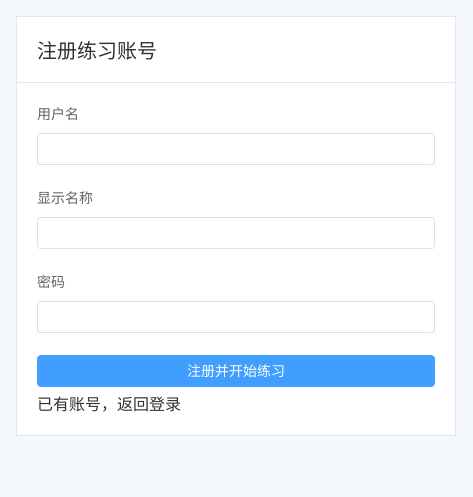
RegisterView › shows business errors next to the form
Type "alice" into the field below "用户名" at (236, 149), box 48,134 -> 424,164
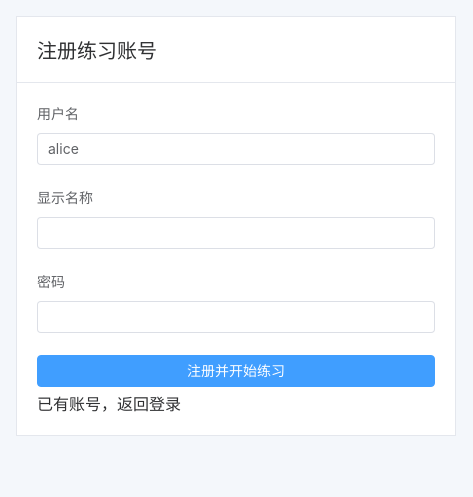
Type "password123" into the password field labelled "密码" at (236, 317), box 48,302 -> 424,332
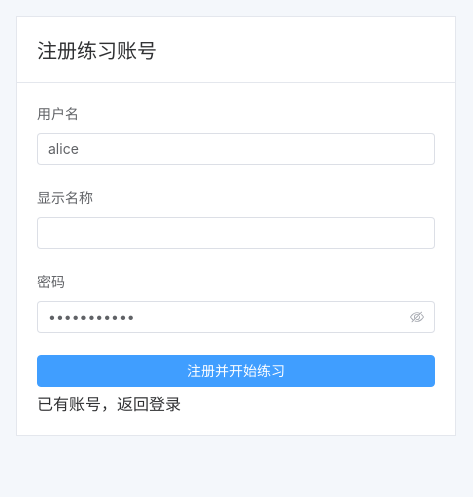
Submit the form, box 37,103 -> 435,415
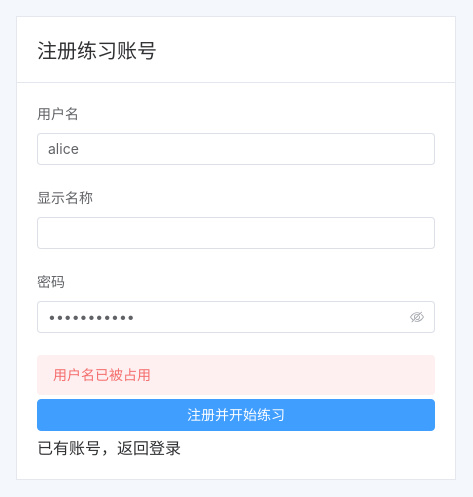
expect the text "用户名已被占用" is shown: met, box 53,363 -> 151,387
